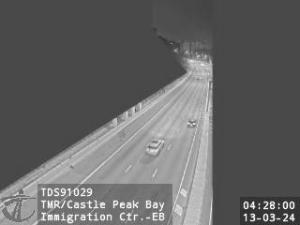vehicle: (146, 139, 164, 157), (186, 118, 200, 128), (196, 76, 202, 80)
